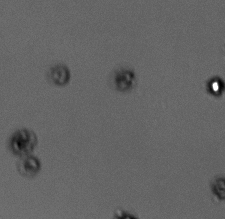Dead Cell: (11, 129, 38, 155), (19, 155, 40, 176), (115, 70, 133, 91), (53, 67, 68, 83)
Living Cell: (208, 76, 223, 96)
